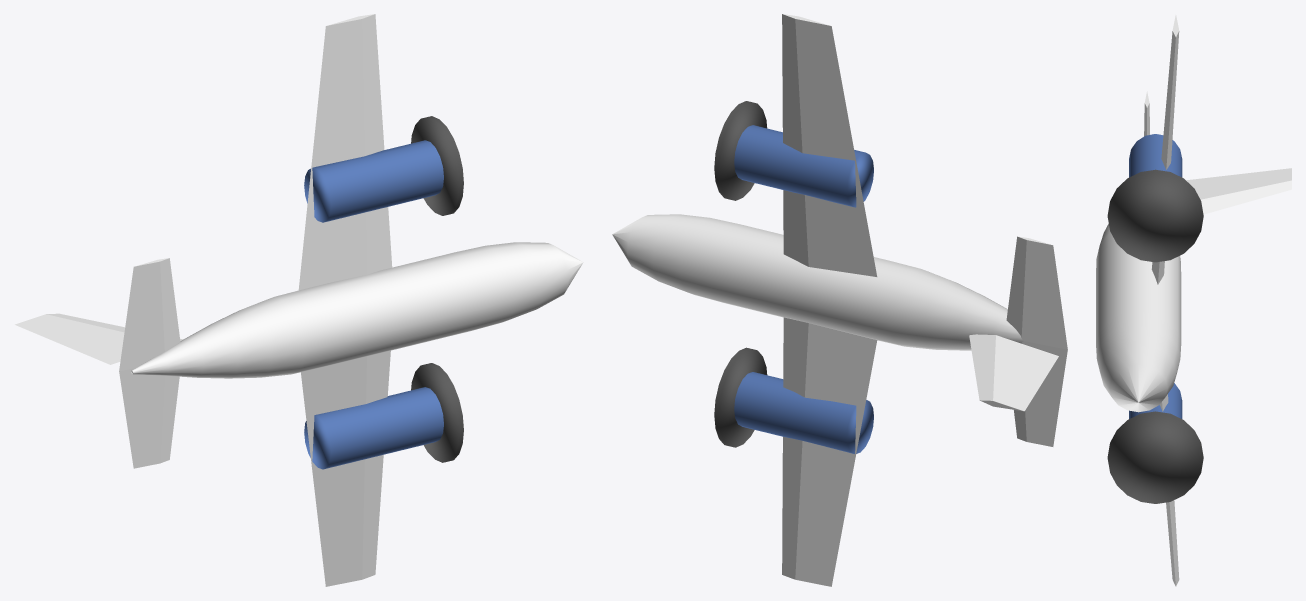
Rendered from C3_TWIN_0001.glb.
The picture shows the model from 3 angles, left to right: view 1: azimuth 30°, elevation 25°; view 2: azimuth 150°, elevation 25°; view 3: azimuth 270°, elevation 25°; orthographic projection. The views are drawn at different scales.
Size of the model in its own units: 13.8 by 15.07 by 4.87.
